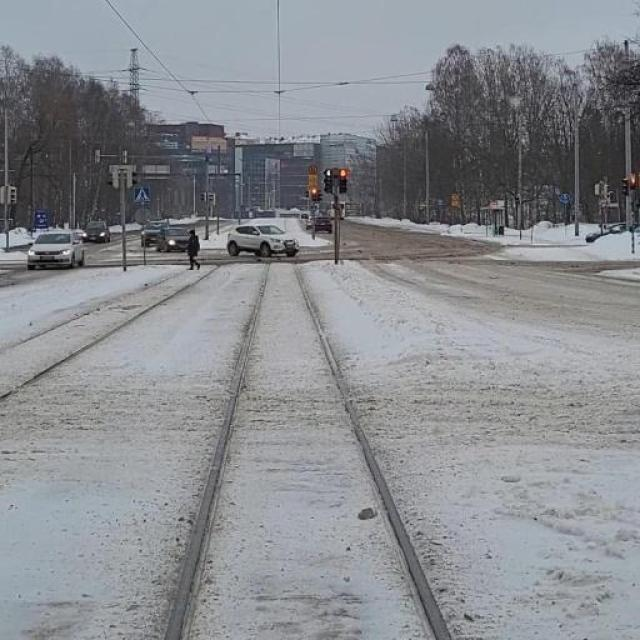people: (183, 229, 209, 271)
vehicle: (225, 220, 304, 263), (26, 227, 88, 270)
